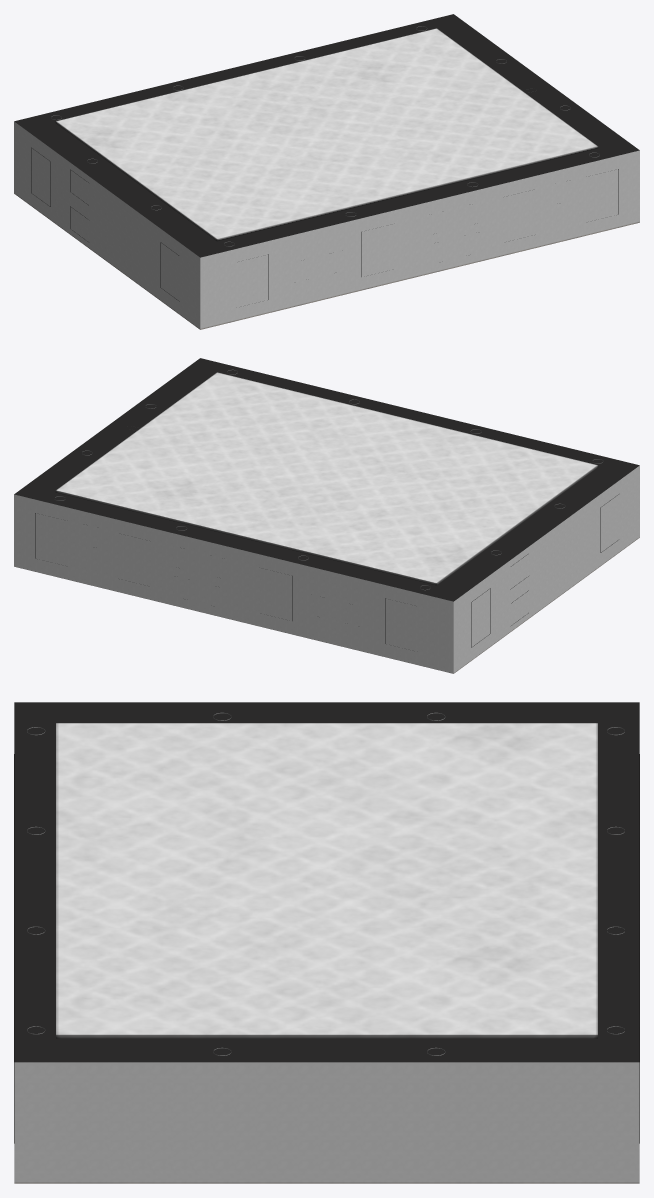
The model's file is uploads_files_5155429_Art+Gallery+GLB.gltf.
The picture shows the model from 3 angles, top to bottom: view 1: azimuth 30°, elevation 25°; view 2: azimuth 150°, elevation 25°; view 3: azimuth 270°, elevation 25°; orthographic projection. The views are drawn at different scales.
Parts seen in each view (by area): view 1: Art_Room; view 2: Art_Room; view 3: Art_Room.
Part boxes in pixels (x1,y1,x2,y2): Art_Room: (14,14,639,329); Art_Room: (14,358,639,673); Art_Room: (14,702,639,1183).
Bounding box in the file's own units: 27.64 × 4.46 × 20.29.
2 materials, 1 textured.
